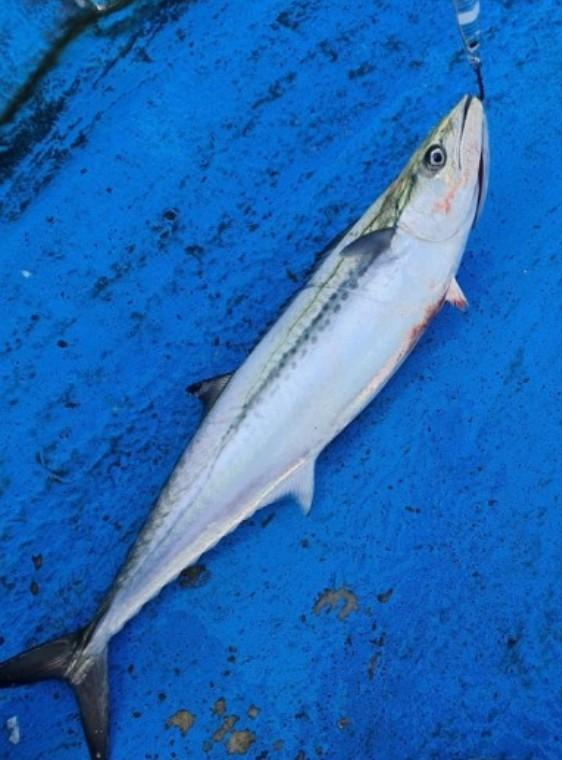fish: (0, 96, 491, 759)
